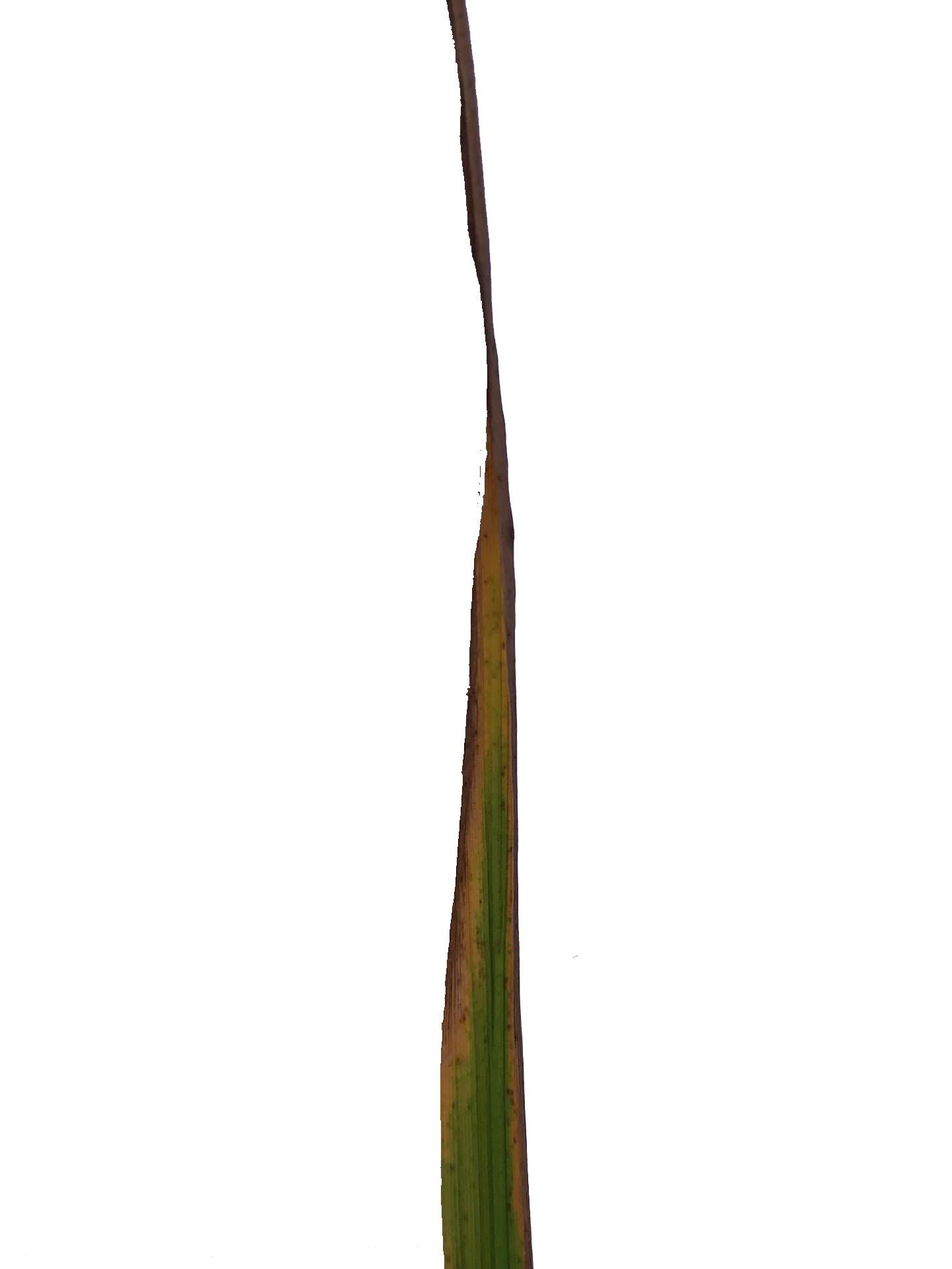Tungro: (438, 0, 533, 1269)
